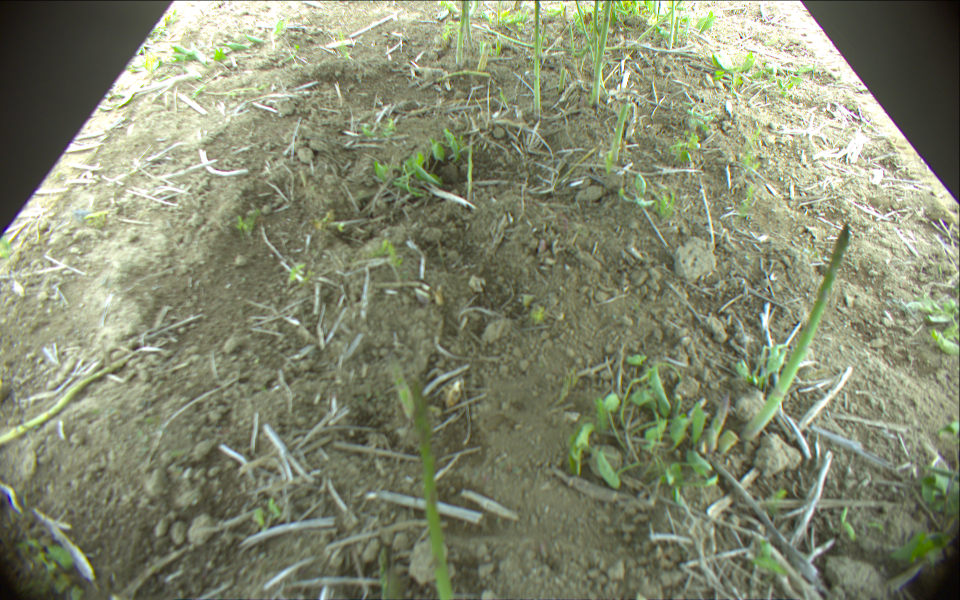aspa: (741, 220, 850, 439), (1, 356, 133, 444), (411, 382, 454, 600), (572, 1, 610, 95), (489, 29, 586, 51), (590, 1, 610, 107), (633, 1, 680, 44), (388, 356, 415, 424), (530, 1, 543, 121), (706, 393, 731, 451), (609, 101, 626, 163), (436, 69, 491, 84), (456, 1, 468, 66), (464, 134, 473, 197), (463, 1, 475, 47), (590, 1, 599, 59), (571, 27, 581, 74), (667, 1, 677, 47), (559, 68, 568, 92)
